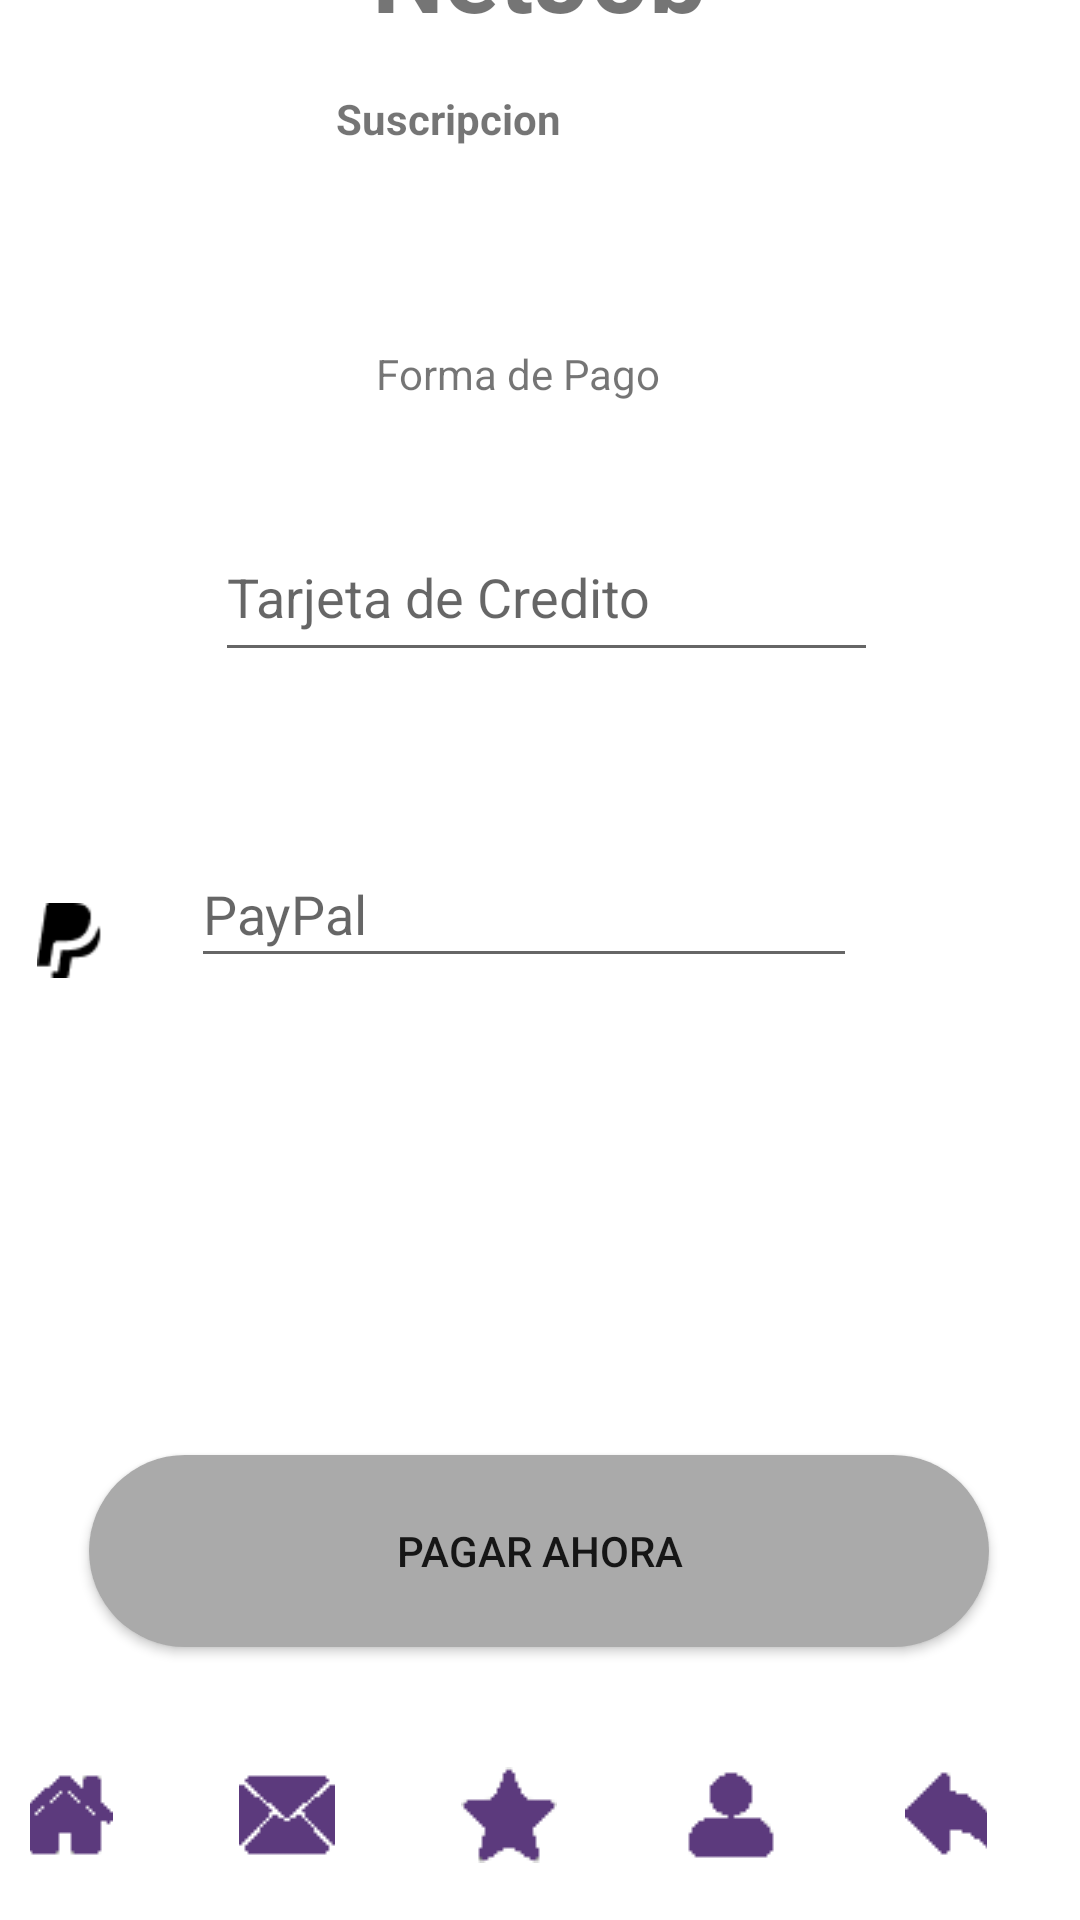

Where to tap for icons on this 1080*1920 app screen, as point (x, y):
back: point (946, 1813)
buzon: point (287, 1815)
favorito: point (509, 1816)
inicio: point (71, 1815)
perfil: point (731, 1815)
